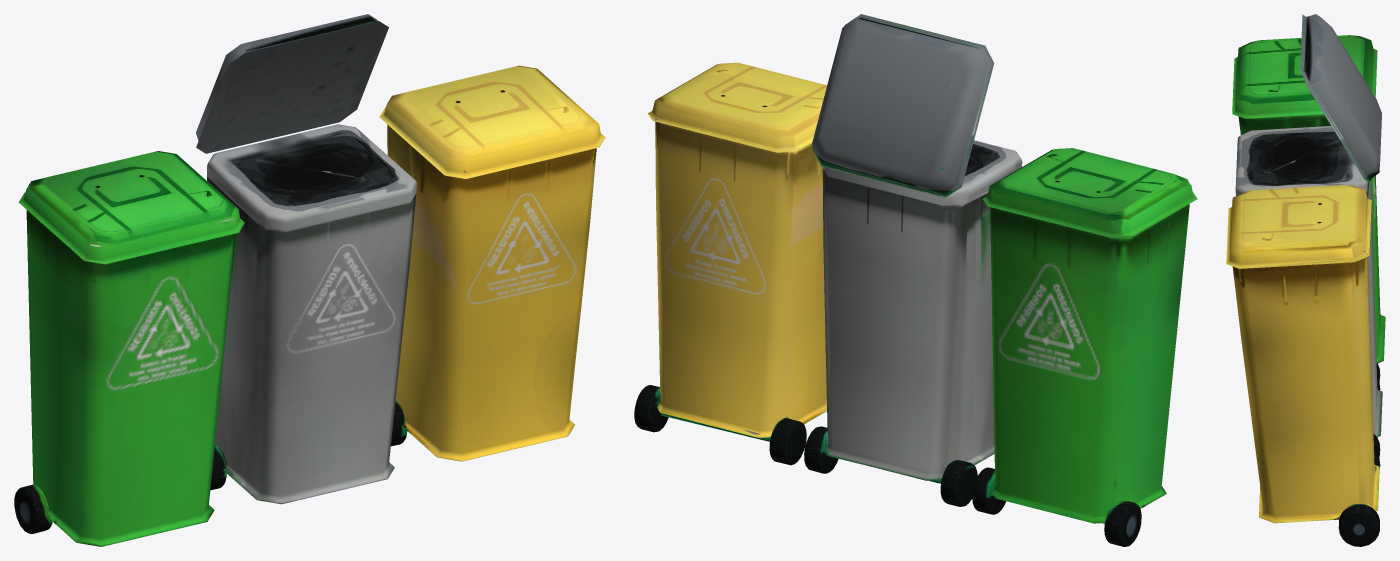
Rendered from contenedores.fbx.
3 views of the same model, side by side, from view 1: azimuth 30°, elevation 25°; view 2: azimuth 150°, elevation 25°; view 3: azimuth 270°, elevation 25° (orthographic). The views are drawn at different scales.
Parts seen in each view (by area): view 1: Mesh_0; view 2: Mesh_0; view 3: Mesh_0.
Boxes of the visible parts, x1=… form: Mesh_0: x1=14, y1=14, x2=605, y2=546; Mesh_0: x1=634, y1=14, x2=1197, y2=546; Mesh_0: x1=1226, y1=14, x2=1385, y2=546.
Size of the model in its own units: 200 by 169 by 61.53.
1 material, 1 textured.
